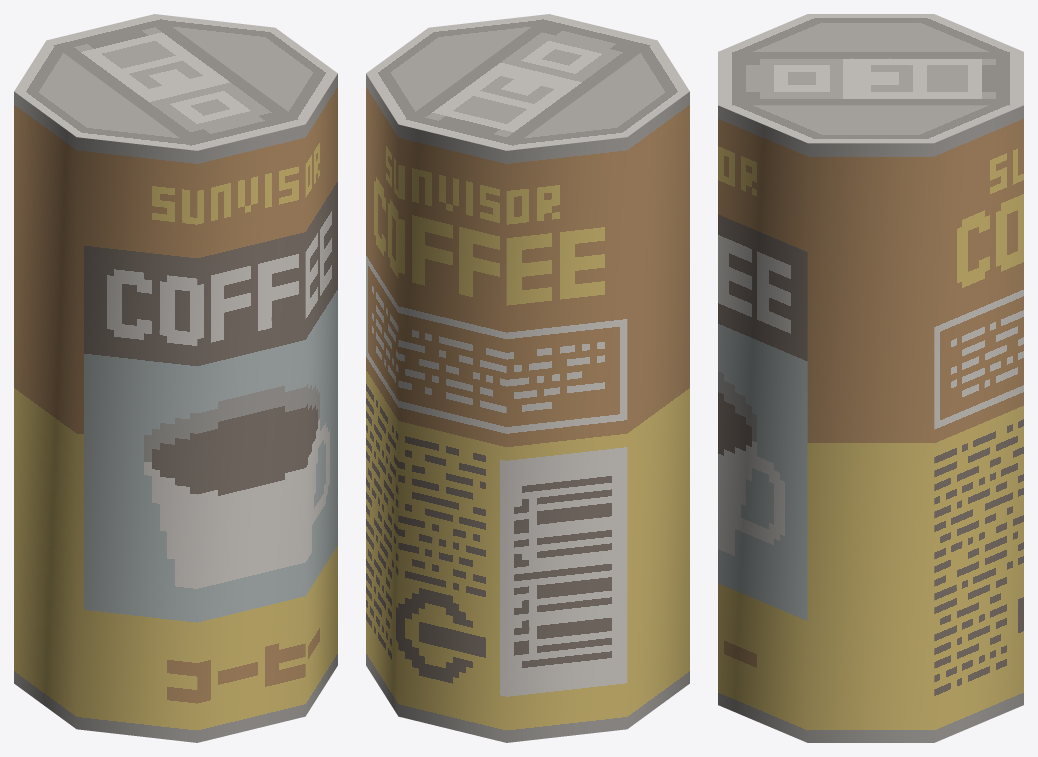
File: 0352_Coffee_Can.glb
3 views of the same model, side by side, from view 1: azimuth 30°, elevation 25°; view 2: azimuth 150°, elevation 25°; view 3: azimuth 270°, elevation 25° (orthographic).
Visible parts, largest first — view 1: part_0; view 2: part_0; view 3: part_0.
Part boxes in pixels (box(x1,y1,x2,y2)): part_0: box(14, 14, 337, 742); part_0: box(366, 14, 689, 742); part_0: box(718, 14, 1023, 742).
Bounding box in the file's own units: 0.0554 × 0.12 × 0.0554.
Materials: 1 (1 with a texture image).
